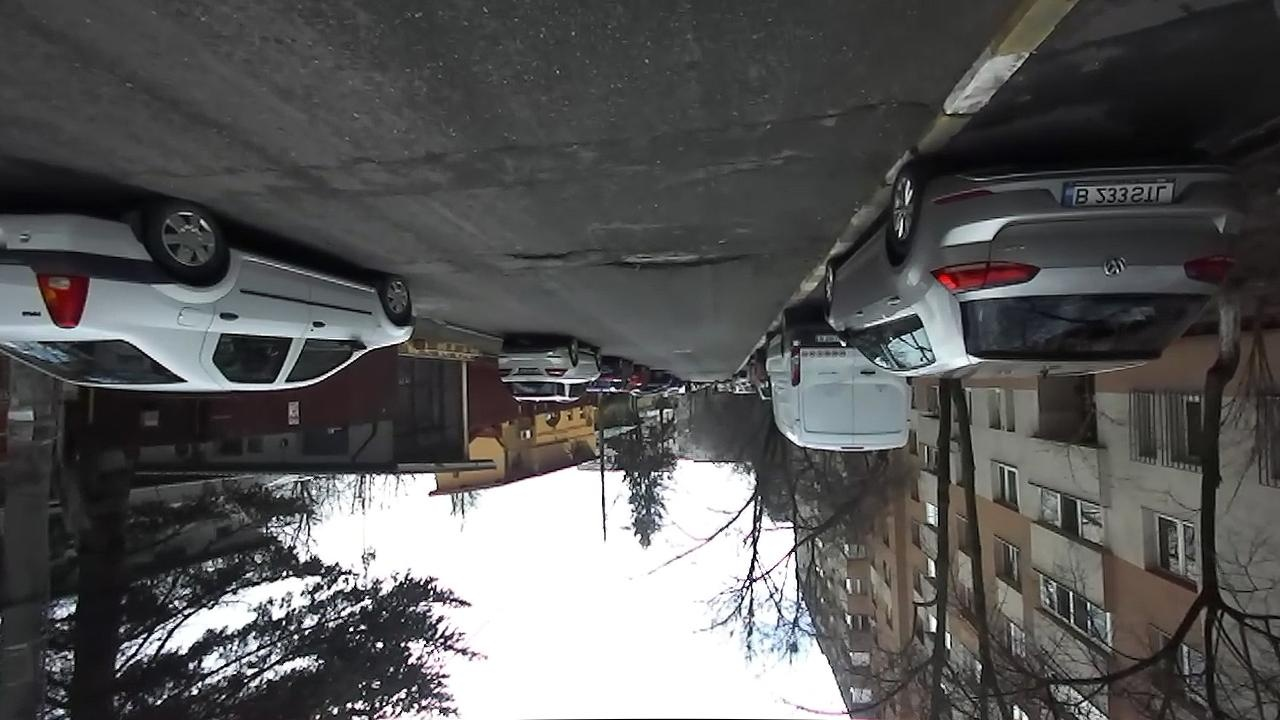pothole: (600, 243, 756, 272), (805, 92, 930, 123), (503, 249, 579, 265)
